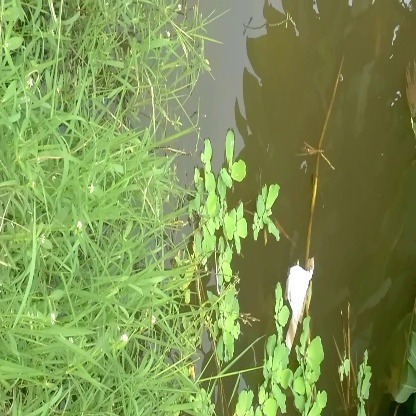plastic-bag: (281, 259, 319, 352)
